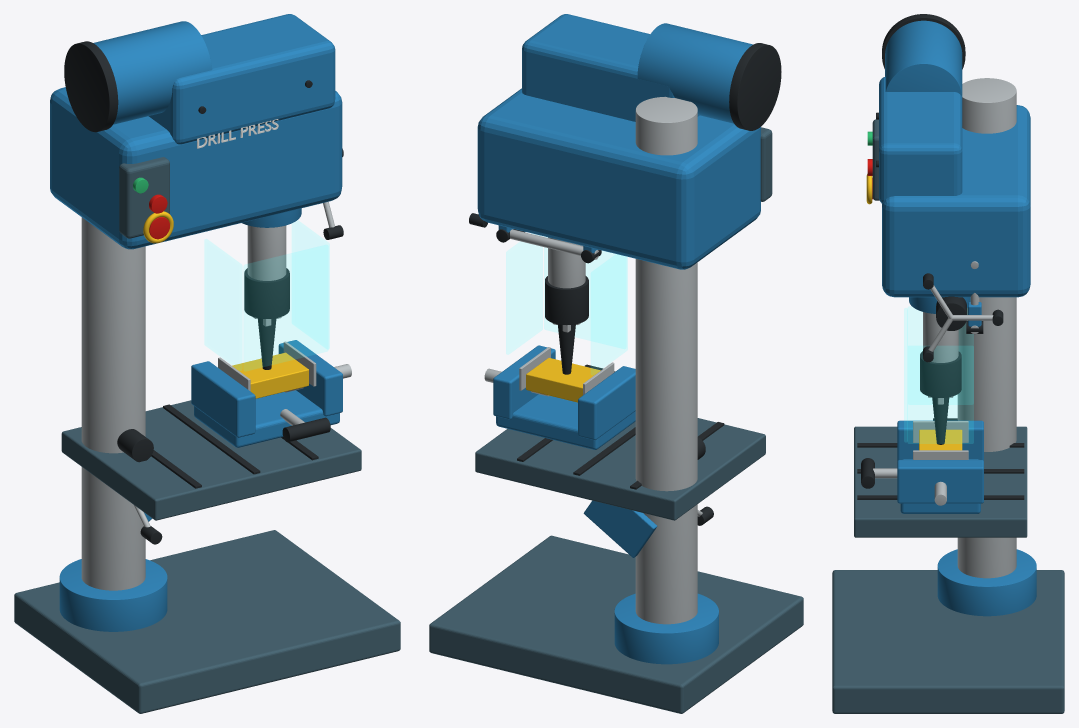
The model's file is industrial_drill_press.glb.
The picture shows the model from 3 angles, left to right: view 1: azimuth 30°, elevation 25°; view 2: azimuth 150°, elevation 25°; view 3: azimuth 270°, elevation 25°; orthographic projection. The views are drawn at different scales.
Parts seen in each view (by area): view 1: DRILL_base, DRILL_head, DRILL_column, DRILL_table, DRILL_belt_guard, DRILL_guard_front, MOTOR_body, DRILL_column_base, DRILL_guard_left, MOTOR_fan_cover, DRILL_vise_fixed_jaw, DRILL_vise_base (+11 smaller); view 2: DRILL_head, DRILL_base, DRILL_column, DRILL_table, DRILL_belt_guard, MOTOR_body, DRILL_column_base, DRILL_guard_left, DRILL_guard_right, MOTOR_fan_cover, DRILL_vise_base, DRILL_vise_fixed_jaw (+9 smaller); view 3: DRILL_base, DRILL_head, DRILL_column, DRILL_table, DRILL_belt_guard, DRILL_guard_right, MOTOR_body, DRILL_column_base, DRILL_vise_moving_jaw, DRILL_chuck, DRILL_vise_fixed_jaw, DRILL_quill (+13 smaller).
Part boxes in pixels (x1,y1,x2,y2): DRILL_base: (14, 530, 400, 713); DRILL_head: (50, 87, 342, 249); DRILL_column: (81, 217, 145, 590); DRILL_table: (61, 400, 361, 520); DRILL_belt_guard: (148, 14, 335, 144); DRILL_guard_front: (244, 245, 327, 370); MOTOR_body: (93, 21, 212, 124); DRILL_column_base: (59, 559, 167, 631); DRILL_guard_left: (205, 239, 241, 370); MOTOR_fan_cover: (64, 41, 118, 132); DRILL_vise_fixed_jaw: (191, 361, 255, 437); DRILL_vise_base: (194, 390, 339, 447); DRILL_head: (477, 88, 760, 269); DRILL_base: (429, 535, 803, 713); DRILL_column: (635, 96, 697, 624); DRILL_table: (475, 418, 765, 520); DRILL_belt_guard: (522, 14, 699, 121); MOTOR_body: (637, 23, 752, 123); DRILL_column_base: (614, 593, 718, 664); DRILL_guard_left: (591, 254, 627, 374); DRILL_guard_right: (506, 242, 542, 353); MOTOR_fan_cover: (729, 43, 781, 130); DRILL_vise_base: (496, 394, 635, 449); DRILL_vise_fixed_jaw: (578, 366, 635, 440); DRILL_base: (832, 570, 1064, 713); DRILL_head: (882, 105, 1030, 297); DRILL_column: (957, 78, 1016, 578); DRILL_table: (854, 426, 1027, 537); DRILL_belt_guard: (879, 76, 962, 203); DRILL_guard_right: (908, 346, 973, 443); MOTOR_body: (885, 20, 962, 97); DRILL_column_base: (937, 549, 1036, 616); DRILL_vise_moving_jaw: (897, 460, 983, 503); DRILL_chuck: (920, 351, 961, 397); DRILL_vise_fixed_jaw: (897, 420, 983, 461); DRILL_quill: (923, 312, 958, 362).
Size of the model in its own units: 1.86 by 4.15 by 1.5.
